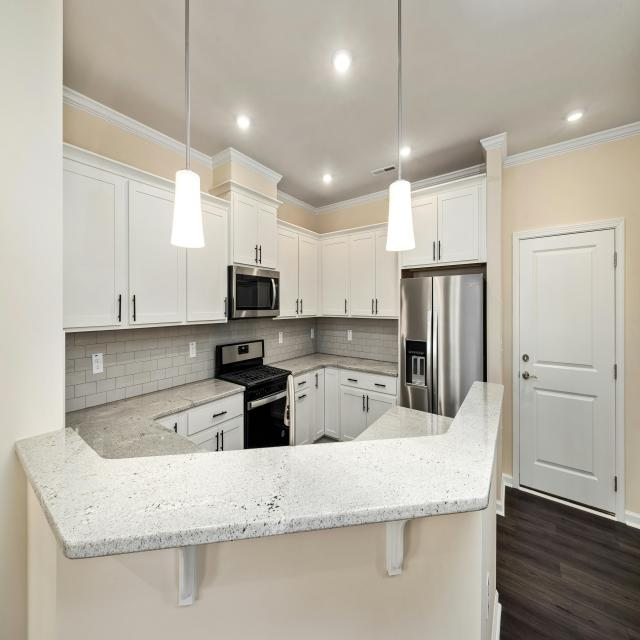Appliance_Fridge: (400, 262, 488, 419)
Appliance_Microwave: (227, 265, 281, 321)
Appliance_Oven: (215, 340, 291, 450)
Cabinet_Flat: (188, 394, 244, 435), (339, 369, 399, 397), (296, 375, 314, 392)
Cabinet_Shaker: (62, 145, 486, 332), (294, 368, 394, 446), (190, 415, 243, 451), (155, 410, 190, 437)
Countertop_Granite: (14, 382, 506, 560), (65, 379, 245, 459), (355, 406, 454, 441), (271, 352, 400, 376)
